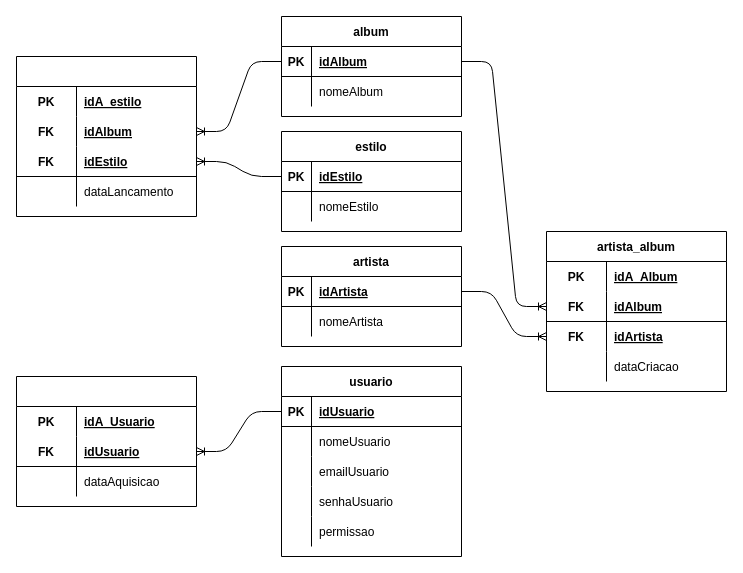
Image size: 743x573. Some labels were removed from this diagram. Each missing label, with the box of its shape:
album_estilo: (16, 56, 196, 216)
album_usuario: (16, 376, 196, 506)
